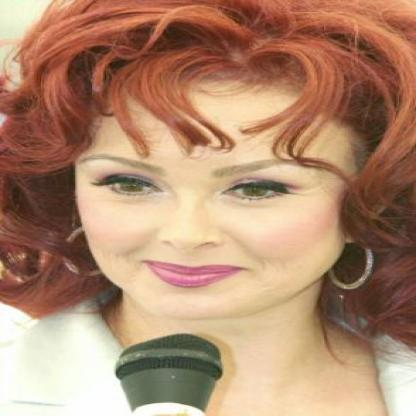face: (70, 44, 366, 324)
